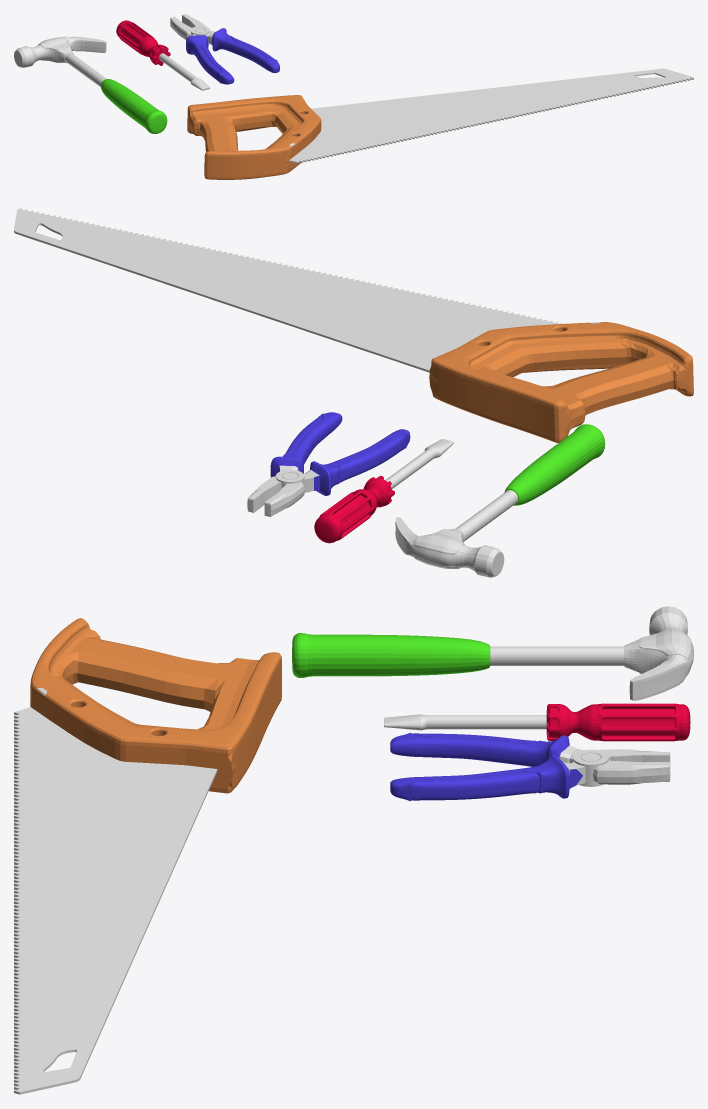
File: Herramientas basicas separadas.fbx
3 views of the same model, one above another, from view 1: azimuth 30°, elevation 25°; view 2: azimuth 150°, elevation 25°; view 3: azimuth 270°, elevation 25° (orthographic). The views are drawn at different scales.
Visible parts, largest first — view 1: Cerrucho, Martillo, Pinza, Destornillador; view 2: Cerrucho, Martillo, Pinza, Destornillador; view 3: Cerrucho, Martillo, Pinza, Destornillador.
Part boxes in pixels (<box>): Cerrucho: <box>187,68,693,179</box>; Martillo: <box>14,36,167,133</box>; Pinza: <box>170,14,279,84</box>; Destornillador: <box>116,20,210,90</box>; Cerrucho: <box>14,208,693,442</box>; Martillo: <box>395,424,605,577</box>; Pinza: <box>247,412,410,516</box>; Destornillador: <box>314,439,453,543</box>; Cerrucho: <box>14,618,281,1094</box>; Martillo: <box>292,606,693,700</box>; Pinza: <box>390,732,670,801</box>; Destornillador: <box>384,703,690,741</box>.
Size of the model in its own units: 84.32 by 4.93 by 53.86.
